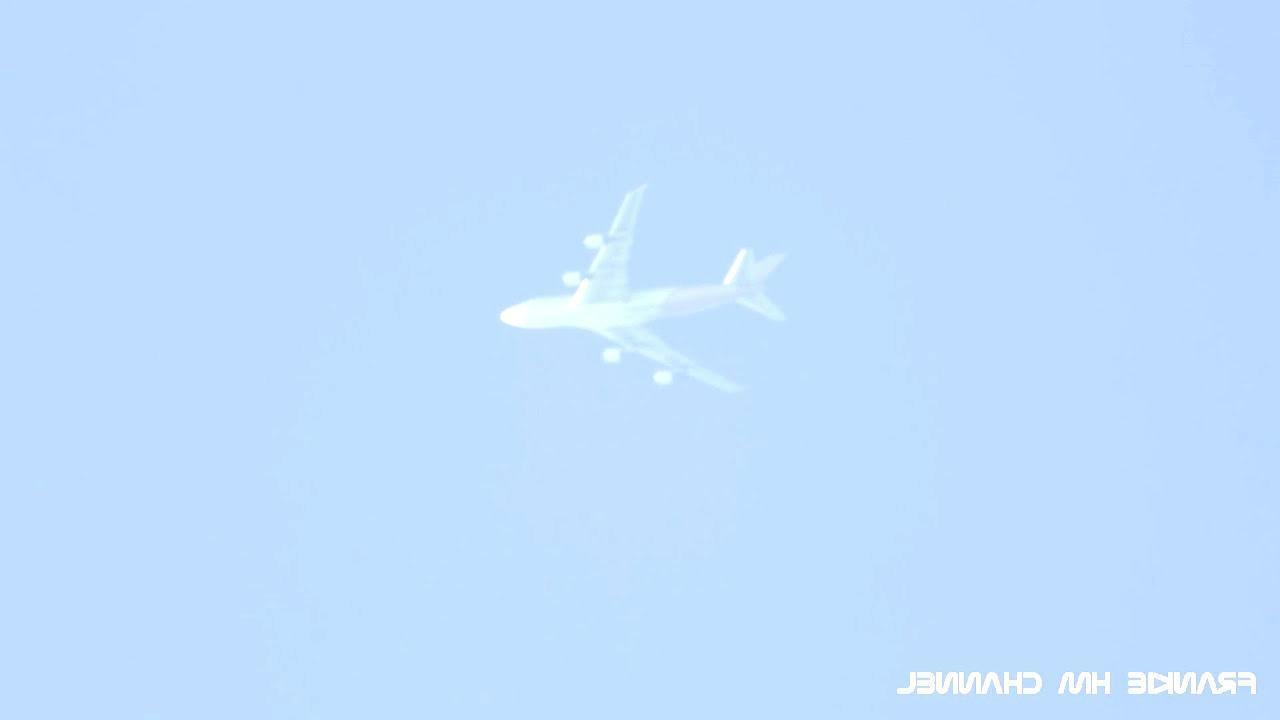Plane: (425, 175, 865, 416)
